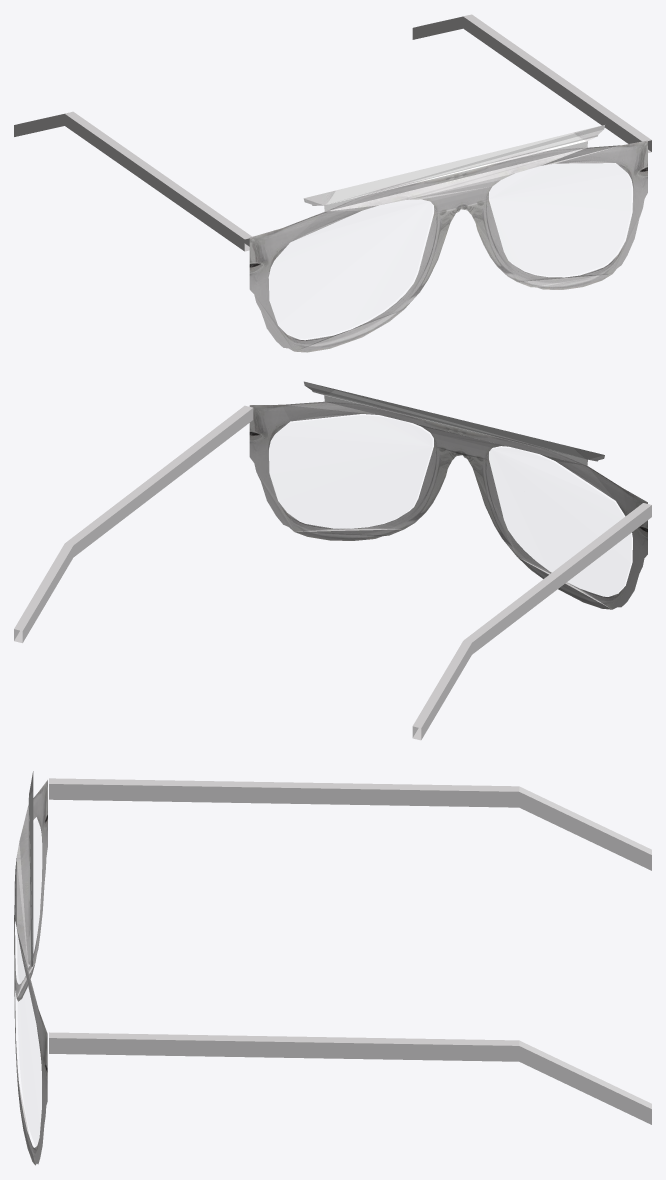
The model's file is gothamstyle-148_crystal.glb.
The picture shows the model from 3 angles, top to bottom: view 1: azimuth 30°, elevation 25°; view 2: azimuth 150°, elevation 25°; view 3: azimuth 270°, elevation 25°; orthographic projection. The views are drawn at different scales.
Visible parts, largest first — view 1: frame_front, temple_viewer_left, temple_viewer_right; view 2: frame_front, temple_viewer_right, temple_viewer_left; view 3: temple_viewer_left, temple_viewer_right, frame_front.
Part boxes in pixels (x1,y1,x2,y2): frame_front: (249, 125, 647, 352); temple_viewer_left: (14, 111, 252, 251); temple_viewer_right: (412, 14, 651, 152); frame_front: (249, 381, 647, 609); temple_viewer_right: (14, 405, 253, 643); temple_viewer_left: (412, 503, 651, 740); temple_viewer_left: (49, 778, 651, 870); temple_viewer_right: (49, 1032, 651, 1124); frame_front: (14, 771, 47, 1165).
Bounding box in the file's own units: 0.1406 × 0.0511 × 0.146.
3 materials, 2 textured.
